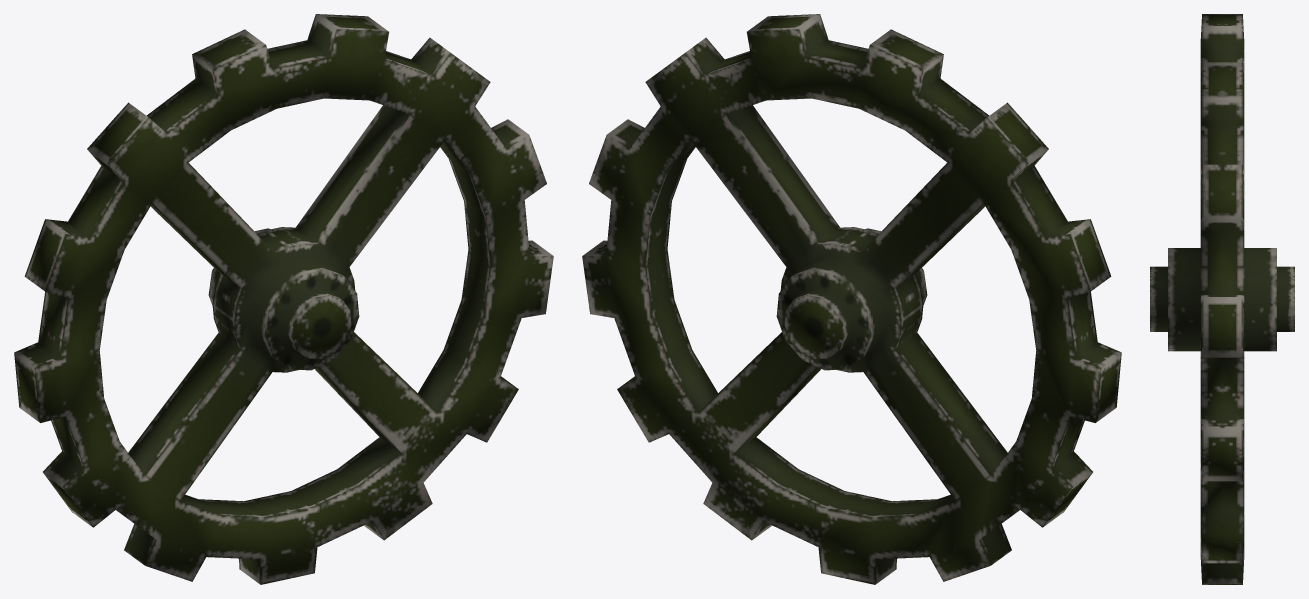
Rendered from Boss001_Gwheel001.FBX.
The picture shows the model from 3 angles, left to right: view 1: azimuth 30°, elevation 25°; view 2: azimuth 150°, elevation 25°; view 3: azimuth 270°, elevation 25°; orthographic projection. The views are drawn at different scales.
Parts seen in each view (by area): view 1: Boss001_Gwheel001; view 2: Boss001_Gwheel001; view 3: Boss001_Gwheel001.
Part boxes in pixels (x1,y1,x2,y2): Boss001_Gwheel001: [14, 14, 553, 584]; Boss001_Gwheel001: [582, 14, 1121, 584]; Boss001_Gwheel001: [1150, 14, 1294, 584].
Size of the model in its own units: 534 by 532 by 135.
Materials: 1 (1 with a texture image).
